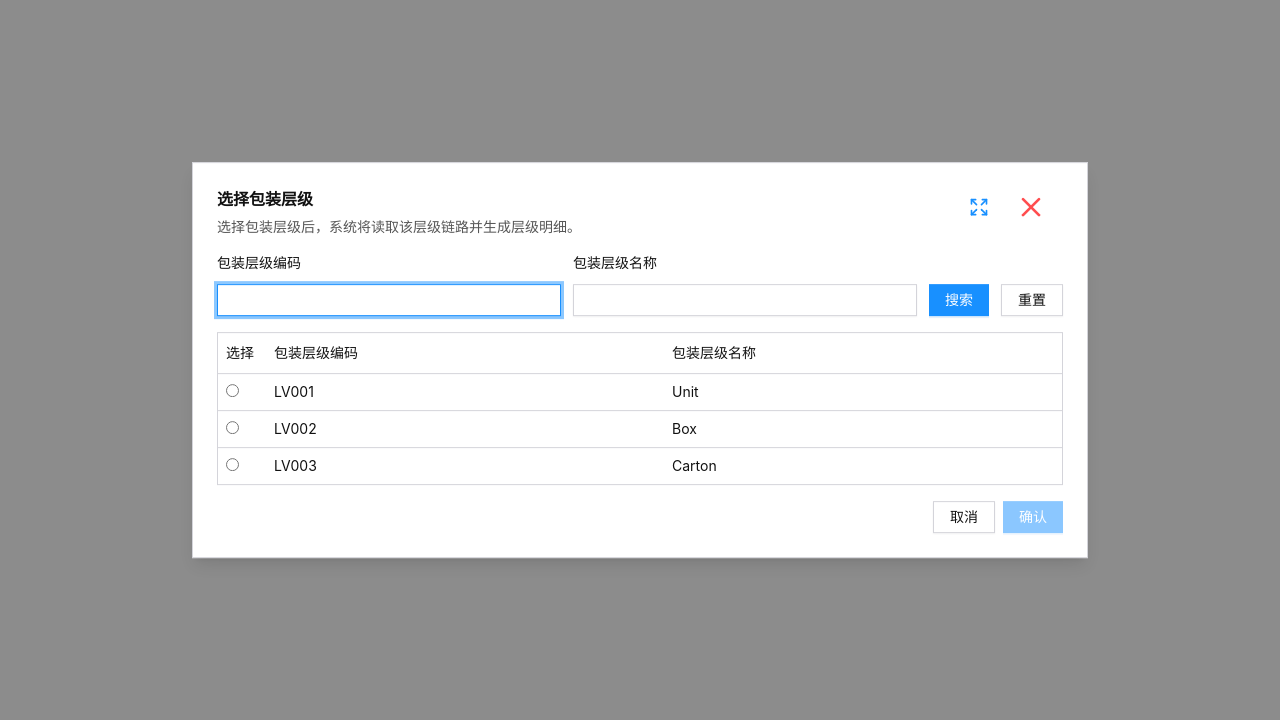
Test: PackagingRuleLevelDialog › renders the not-found hint when filters exclude all rows
The image size is (1280, 720).
In the field with test id "packaging-rule-level-filter-code": (389,300) 217,284 -> 561,316, type "ZZZ"
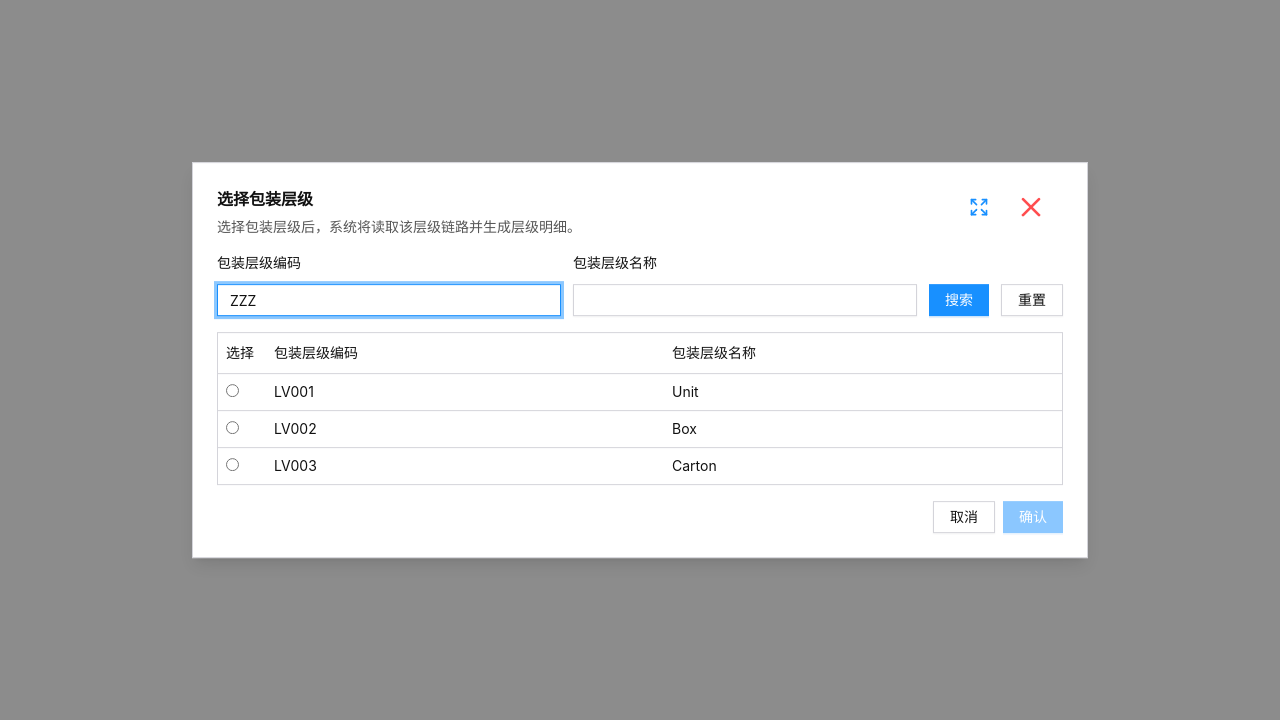
Click the button with test id "packaging-rule-level-filter-submit": (959,300) 929,284 -> 989,316
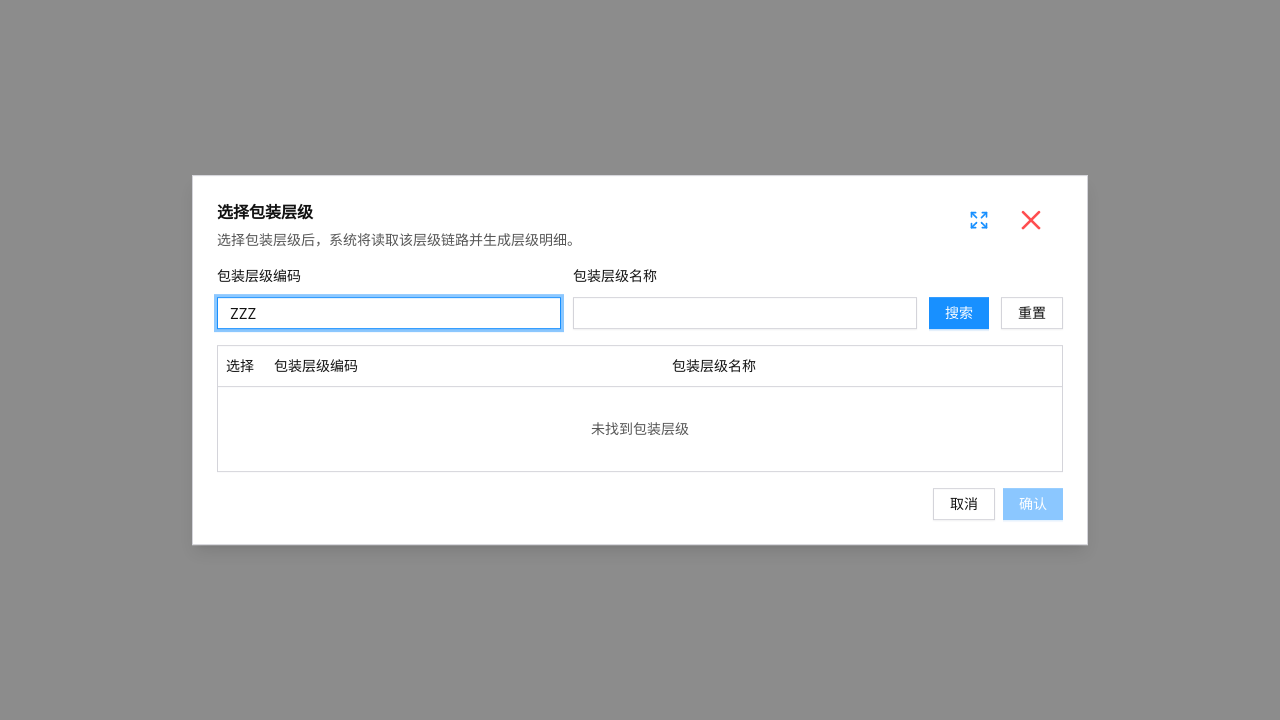
Check: the row with test id "packaging-rule-level-row-LV001" is gone
Check: the text "未找到包装层级" is shown, box 218,386 -> 1062,471
